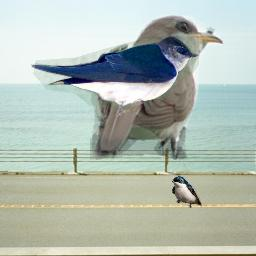Cuckoo: (90, 14, 223, 160)
Swallow: (31, 36, 199, 119), (172, 176, 202, 208)
